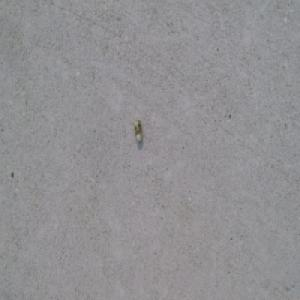BoltNutSet: (132, 120, 143, 143)
